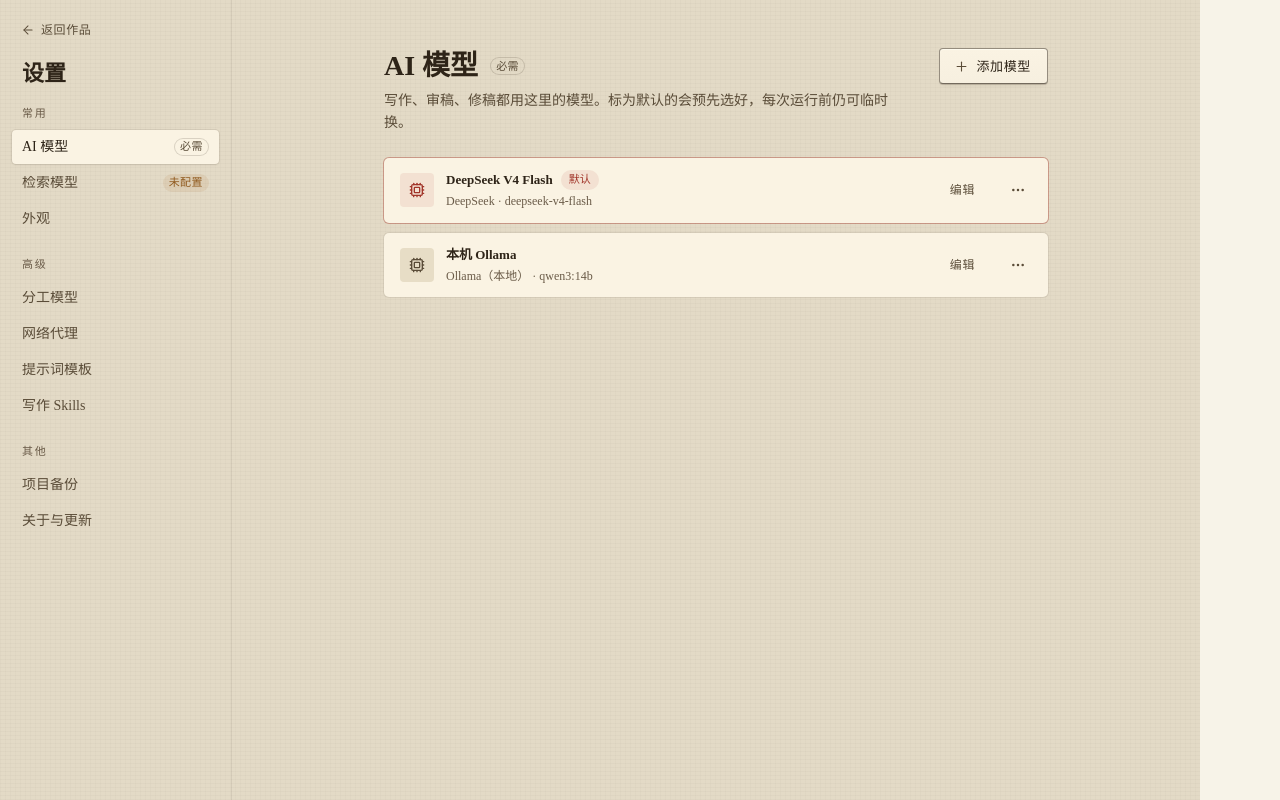
Test: 设置页 › 保存模型时主进程出错：弹出错误，保存按钮恢复可点，编辑表单留着
Click the button "编辑" in the row of "DeepSeek V4 Flash" at (962, 190), box [937,176,988,204]
(page scrolled)
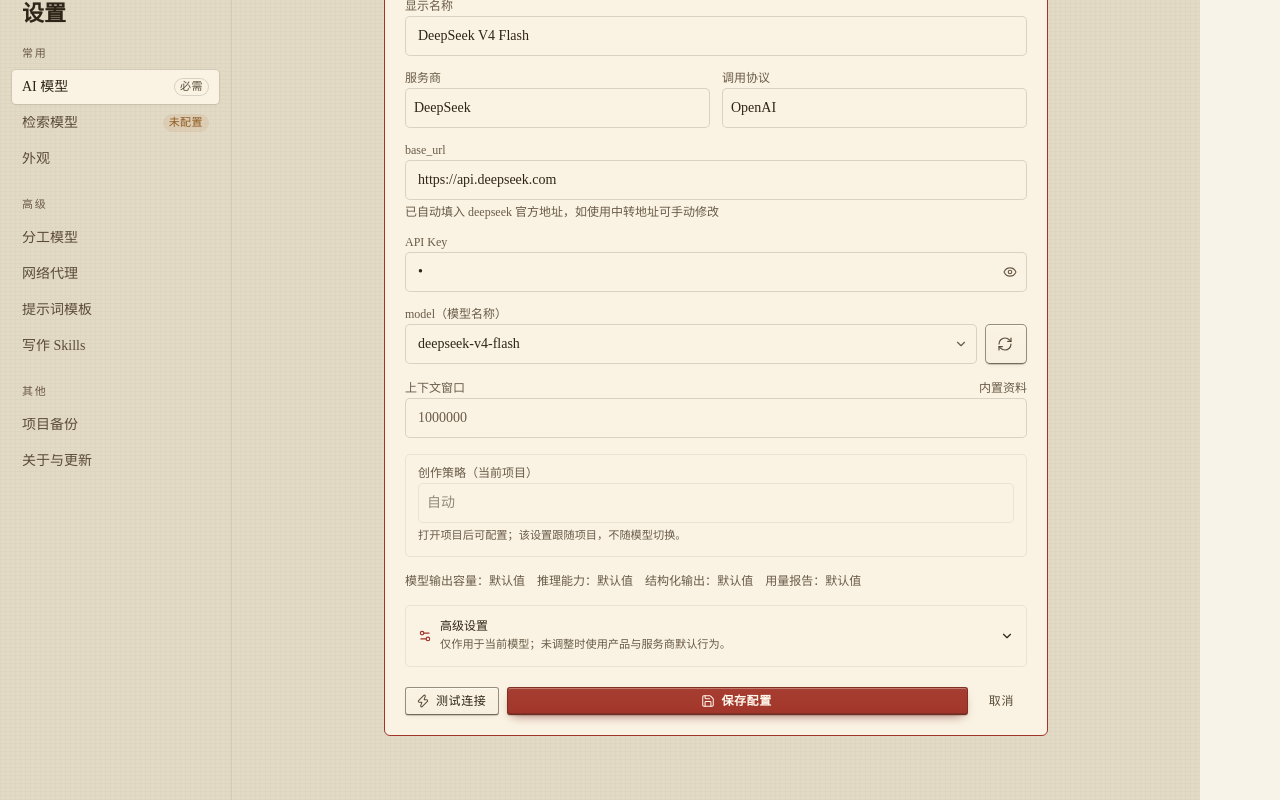
Now the button "保存配置" is shown
Click the button "保存配置" at (738, 701), box [507,687,968,715]
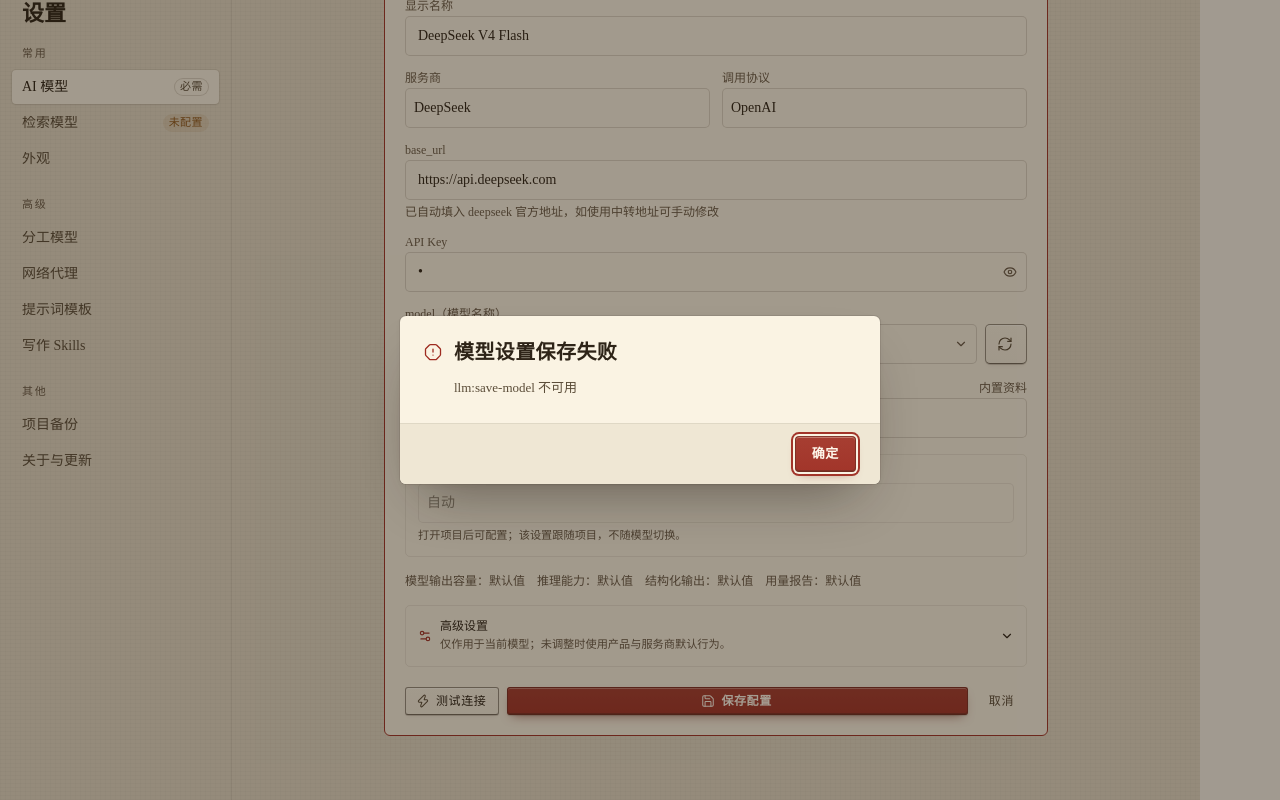
Now the dialog shows "模型设置保存失败", box [454,341,617,363]
Now the dialog shows "llm:save-model 不可用", box [454,380,577,395]
Now the button "确定" is shown
Click the button "确定" at (825, 454), box [795,436,856,472]
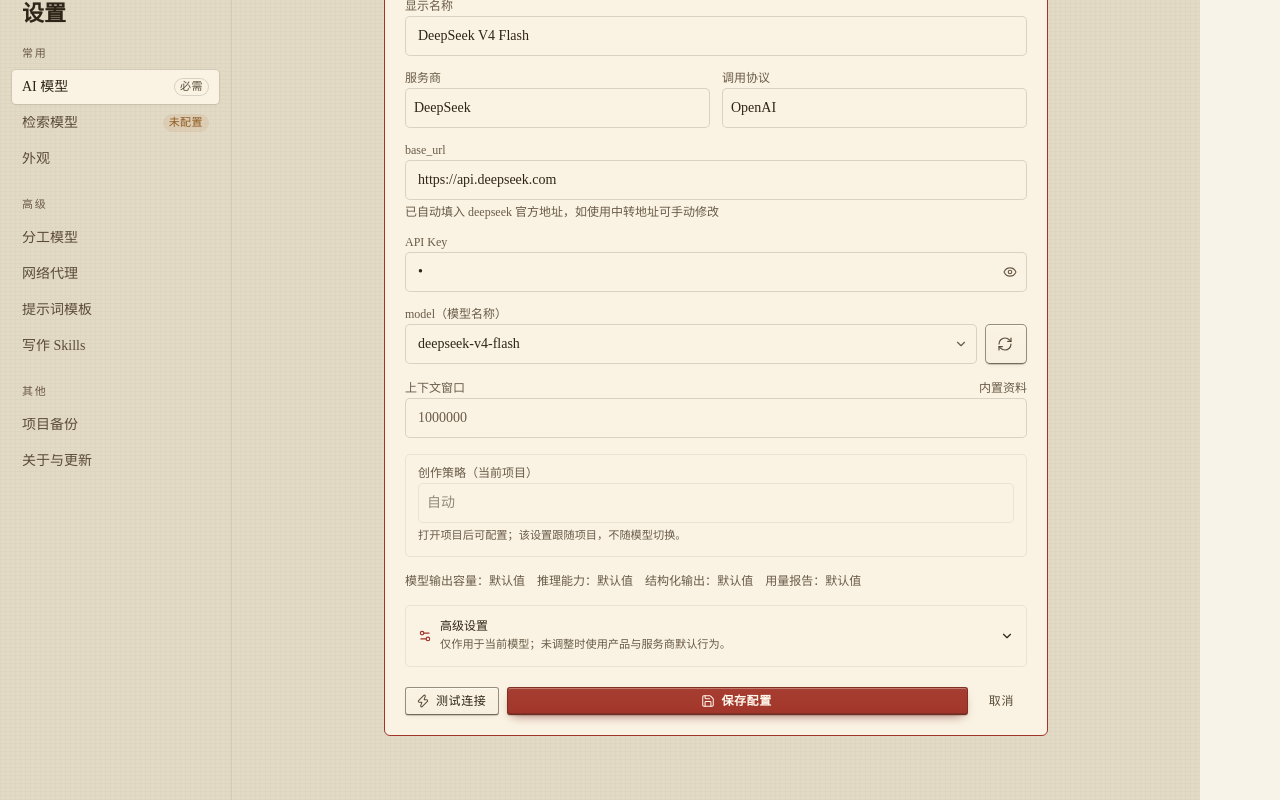
Now the dialog is gone
